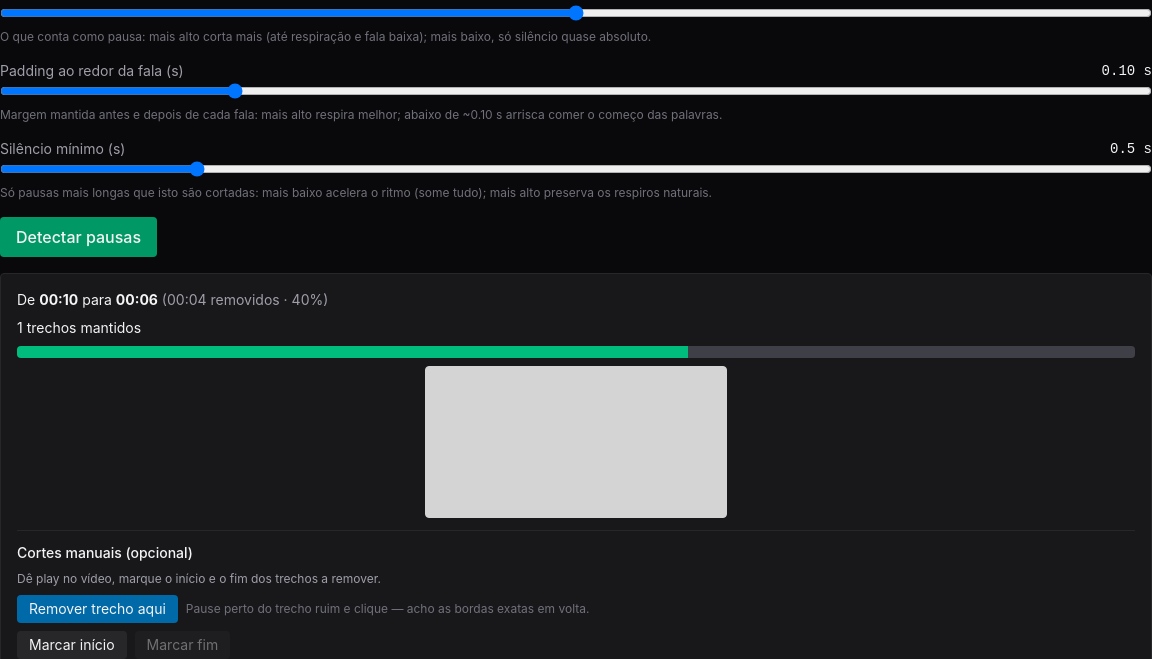
CutsStep — aviso antes do corte manual destruir trabalho › pergunta antes de aplicar, listando o que será descartado
Expected: the text "1 trechos mantidos" is shown, [17,319,141,336]
Click the button "Marcar início".
click(72, 645)  # box [17,631,127,658]
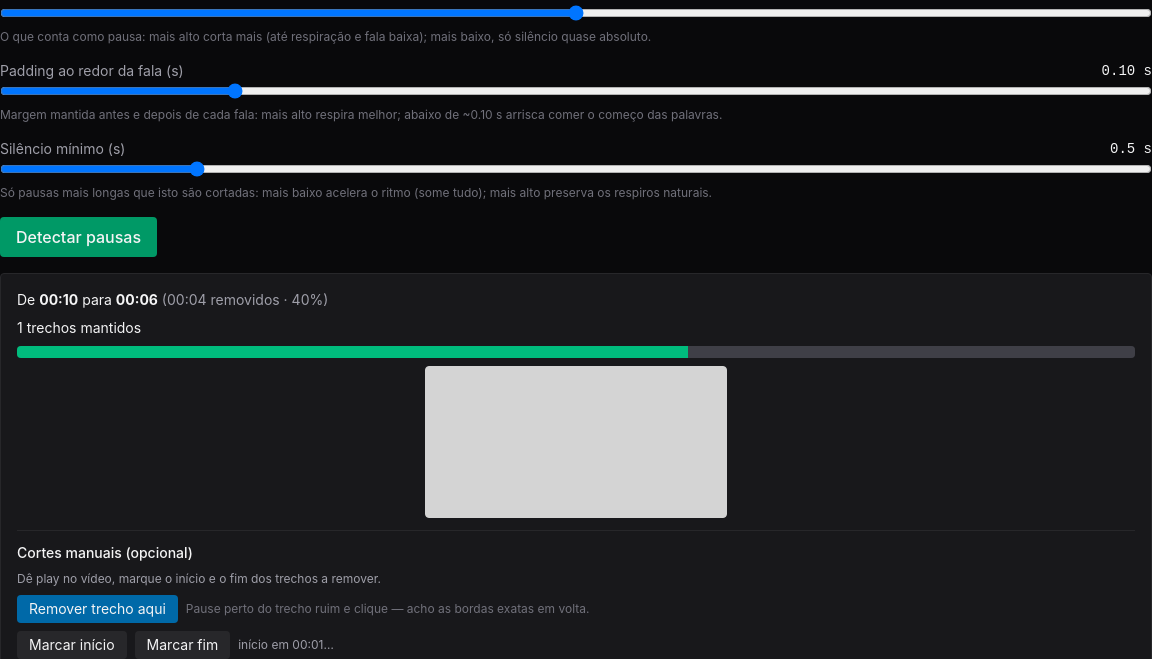
Click the button "Marcar fim".
click(182, 645)  # box [135,631,230,658]
(page scrolled)
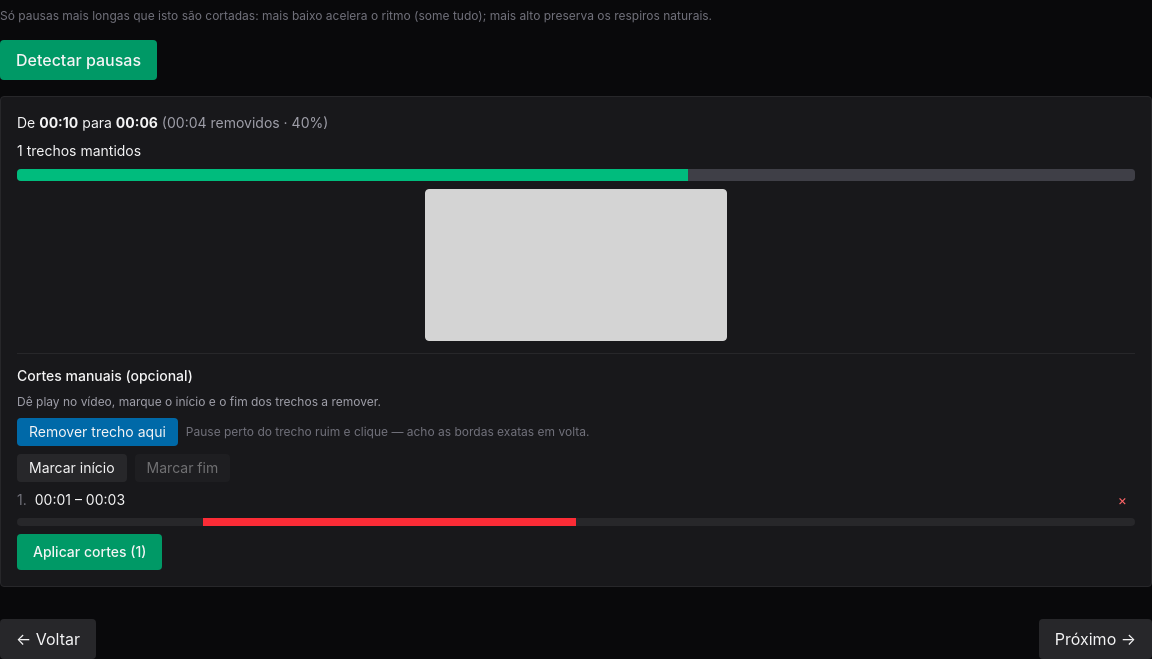
Now the button "Aplicar cortes (1)" is enabled
Click the button "Aplicar cortes (1)".
click(90, 552)  # box [17,534,162,570]
(page scrolled)
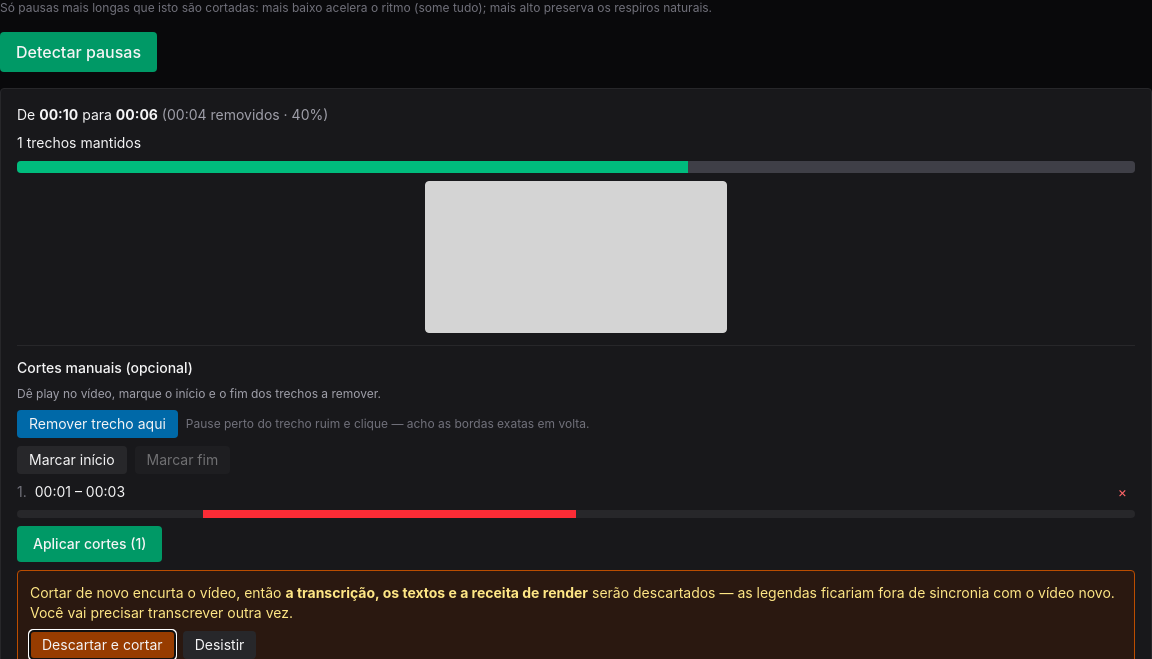
Now the text "a transcrição, os textos e a receita de render" is shown, box [285,584,588,601]
